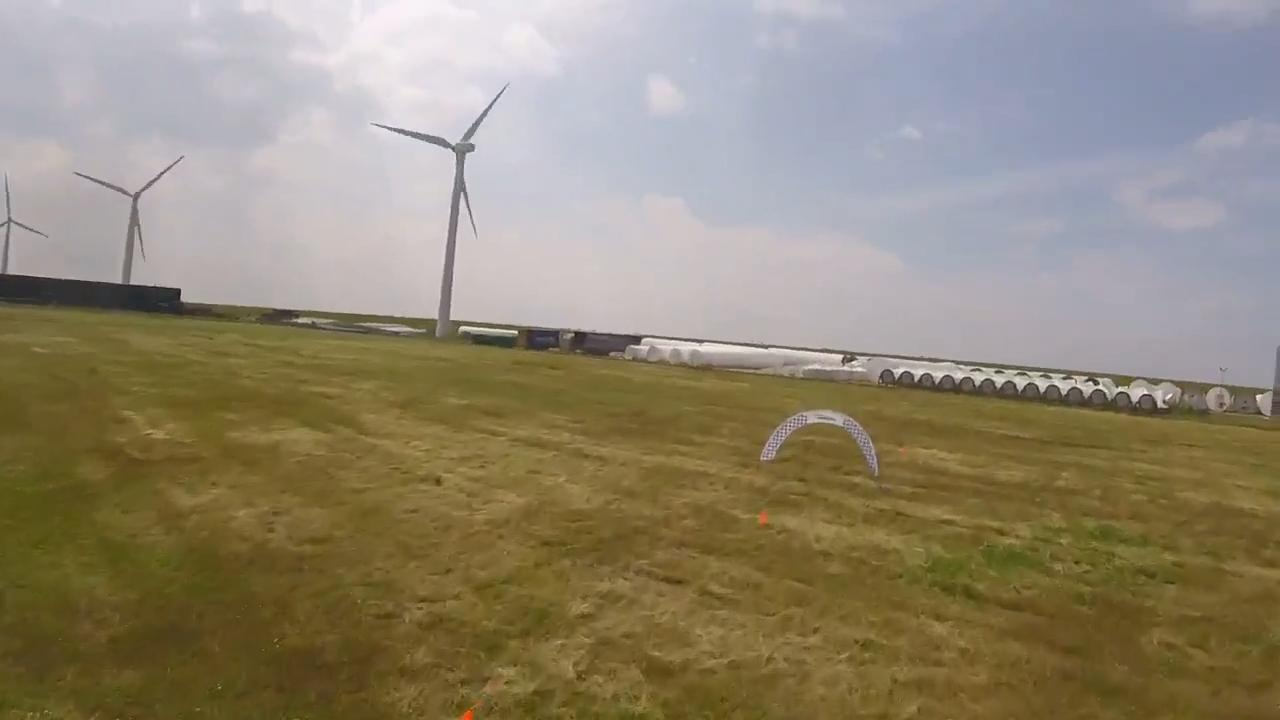gate: (759, 406, 878, 480)
